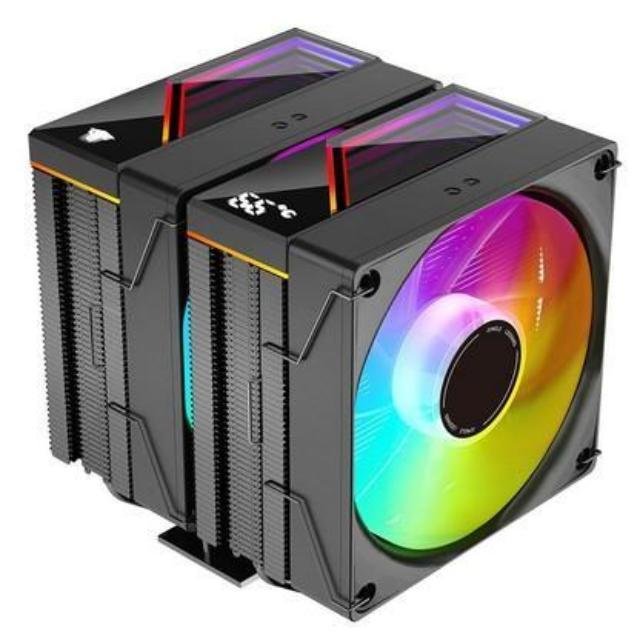CPU_Fan: (24, 19, 622, 624)
